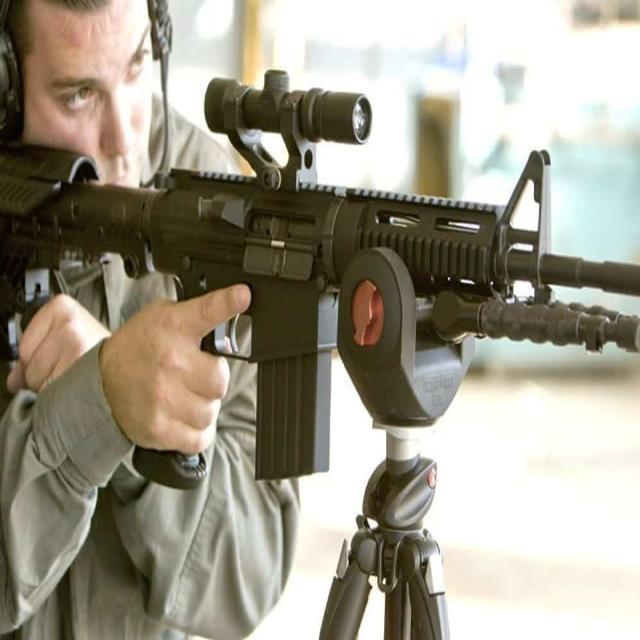Rifle: (0, 70, 640, 484)
